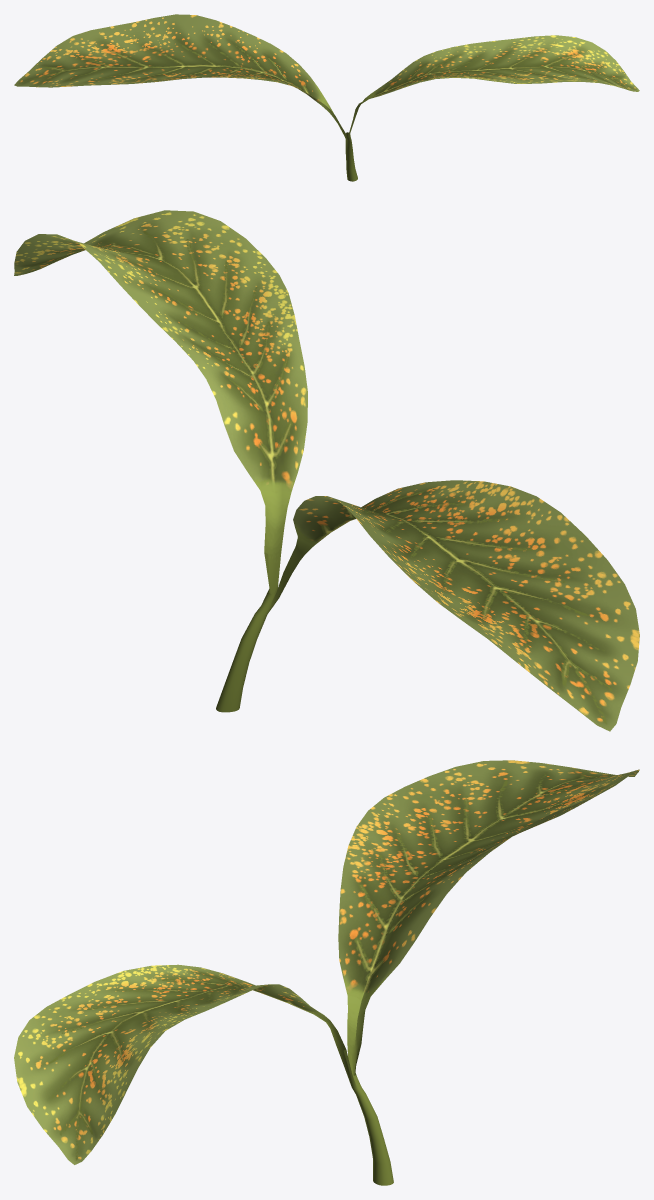
Rendered from mato2.fbx.
The picture shows the model from 3 angles, top to bottom: view 1: azimuth 30°, elevation 25°; view 2: azimuth 150°, elevation 25°; view 3: azimuth 270°, elevation 25°; orthographic projection. The views are drawn at different scales.
Visible parts, largest first — view 1: MH_Weed01_06_Shape; view 2: MH_Weed01_06_Shape; view 3: MH_Weed01_06_Shape.
Part boxes in pixels (x1=…): MH_Weed01_06_Shape: x1=14, y1=14, x2=639, y2=181; MH_Weed01_06_Shape: x1=14, y1=210, x2=639, y2=731; MH_Weed01_06_Shape: x1=14, y1=760, x2=639, y2=1185.
Bounding box in the file's own units: 13.26 × 4.3 × 9.03.
Materials: 1 (1 with a texture image).
